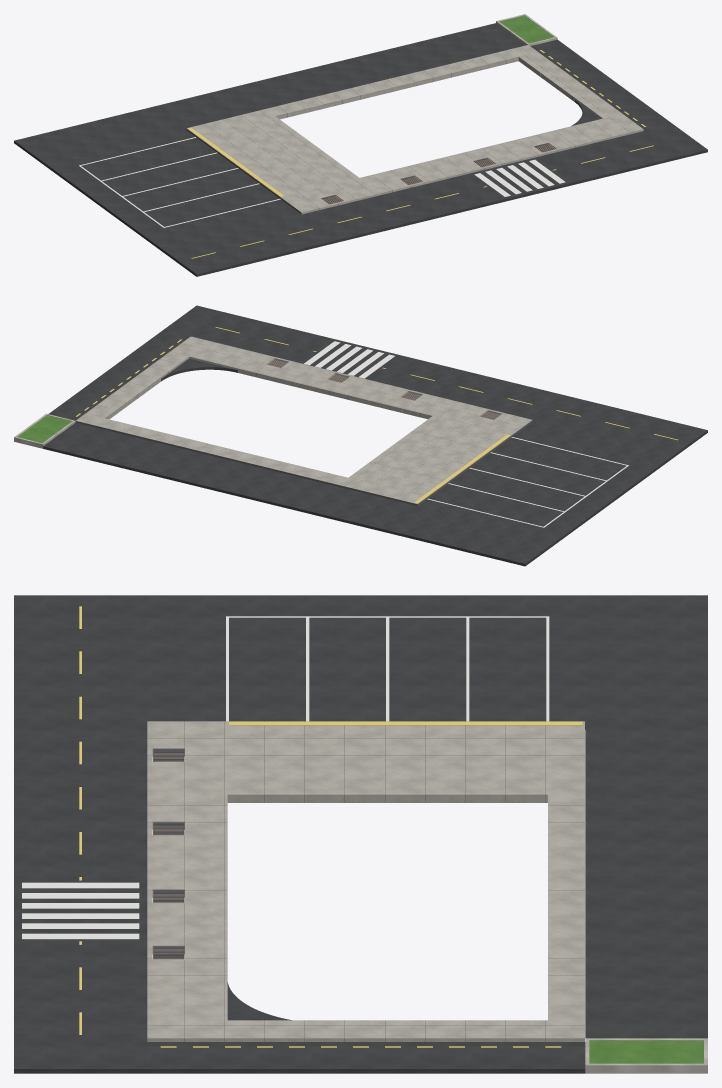
The model's file is site.glb.
3 renders of one model, top to bottom at view 1: azimuth 30°, elevation 25°; view 2: azimuth 150°, elevation 25°; view 3: azimuth 270°, elevation 25°, orthographic. The views are drawn at different scales.
Visible parts, largest first — view 1: site_asphalt, site_concrete, site_paint_w, site_dark, site_paint_y, site_grass; view 2: site_asphalt, site_concrete, site_paint_w, site_dark, site_paint_y, site_grass, site_curb; view 3: site_asphalt, site_concrete, site_paint_w, site_dark, site_paint_y, site_grass, site_curb, site_mulch.
Boxes of the visible parts, left/top/right/bottom form: site_asphalt: left=14, top=23, right=707, bottom=276; site_concrete: left=187, top=45, right=643, bottom=214; site_paint_w: left=79, top=137, right=565, bottom=227; site_dark: left=186, top=59, right=575, bottom=214; site_paint_y: left=188, top=50, right=653, bottom=258; site_grass: left=499, top=15, right=553, bottom=43; site_asphalt: left=43, top=305, right=707, bottom=566; site_concrete: left=76, top=336, right=532, bottom=504; site_paint_w: left=304, top=341, right=628, bottom=527; site_dark: left=75, top=359, right=532, bottom=505; site_paint_y: left=76, top=327, right=678, bottom=503; site_grass: left=18, top=415, right=71, bottom=442; site_curb: left=14, top=413, right=75, bottom=448; site_asphalt: left=14, top=595, right=707, bottom=1073; site_concrete: left=147, top=721, right=584, bottom=1041; site_paint_w: left=22, top=616, right=549, bottom=939; site_dark: left=153, top=722, right=545, bottom=1041; site_paint_y: left=79, top=606, right=582, bottom=1047; site_grass: left=589, top=1040, right=703, bottom=1063; site_curb: left=585, top=1038, right=707, bottom=1073; site_mulch: left=153, top=750, right=184, bottom=959.
Size of the model in its own units: 42 by 0.354 by 26.
Materials: 8 (4 with a texture image).
